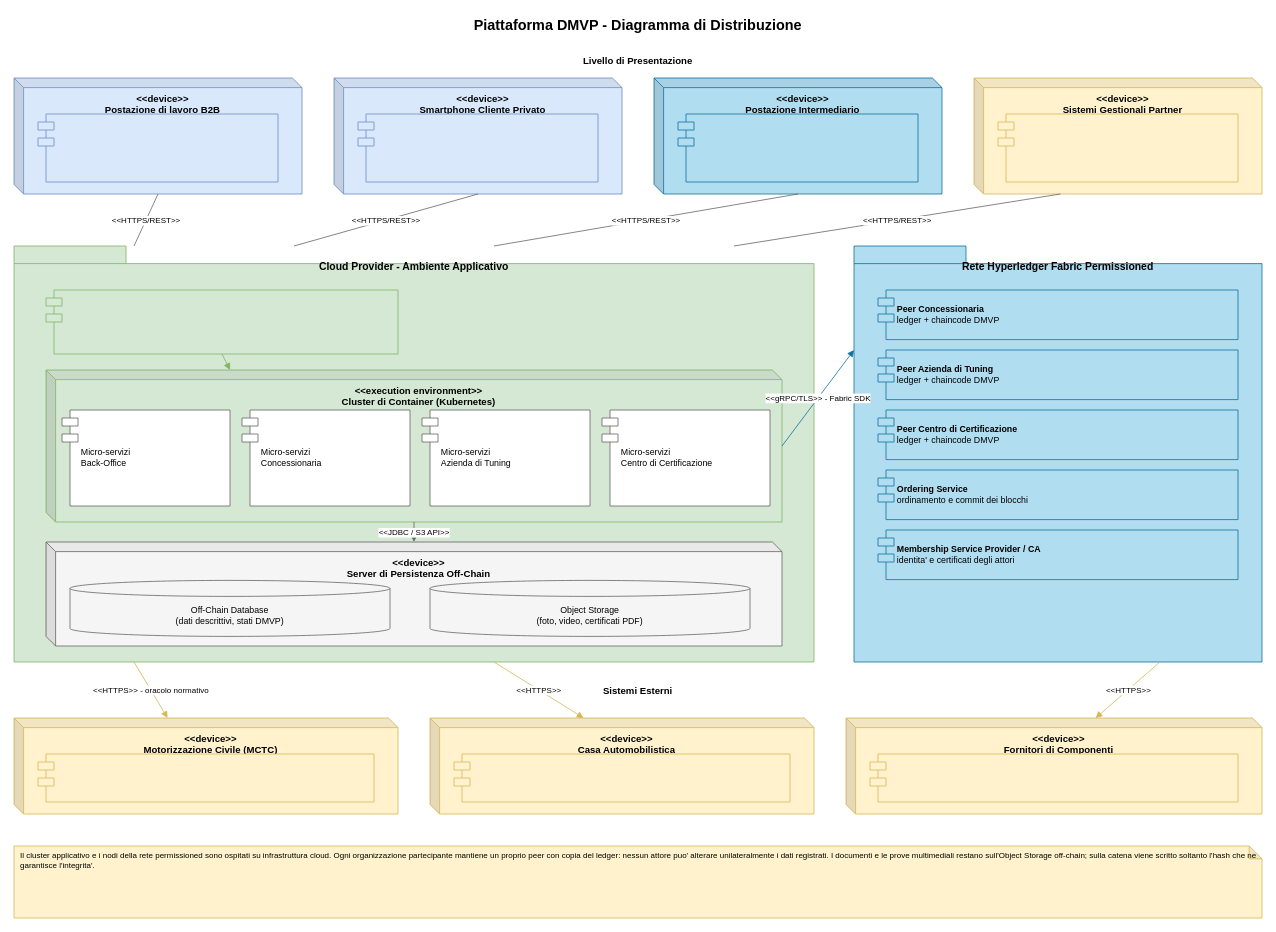
Image size: 1276x932. Some labels were removed from this diagram. The shapes that lost their labels are listed below. From the top down, each one's centre as x and y in pixels, then its label:
At point (157, 147): "Browser Web Portale B2B (Concessionaria, Tuning, Certificazione)".
At point (477, 147): "App Mobile B2C consultazione DMVP, QR code, notifiche".
At point (797, 147): "Console di Governance amministrazione rete e onboarding attori".
At point (1117, 147): "Client API integrazione ERP/DMS dei partner".
At point (221, 321): "API Gateway autenticazione, autorizzazione, rate limiting".
At point (205, 777): "Servizi di omologazione e validazione normativa".
At point (621, 777): "Anagrafica ufficiale del veicolo base".
At point (1053, 777): "Certificazioni e provenienza dei componenti installati".
